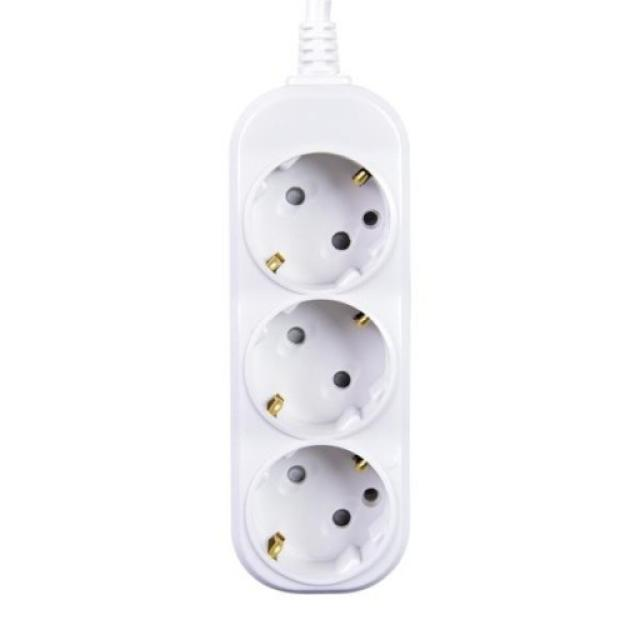typeb: (165, 66, 475, 598)
